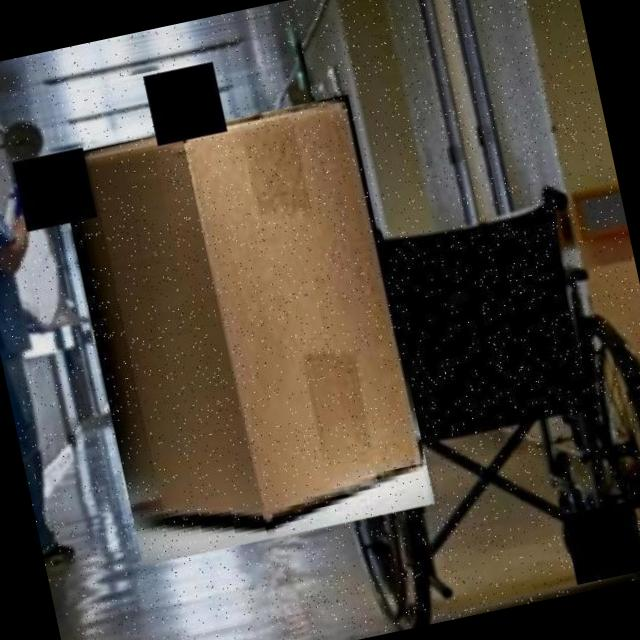box: (46, 89, 439, 574)
